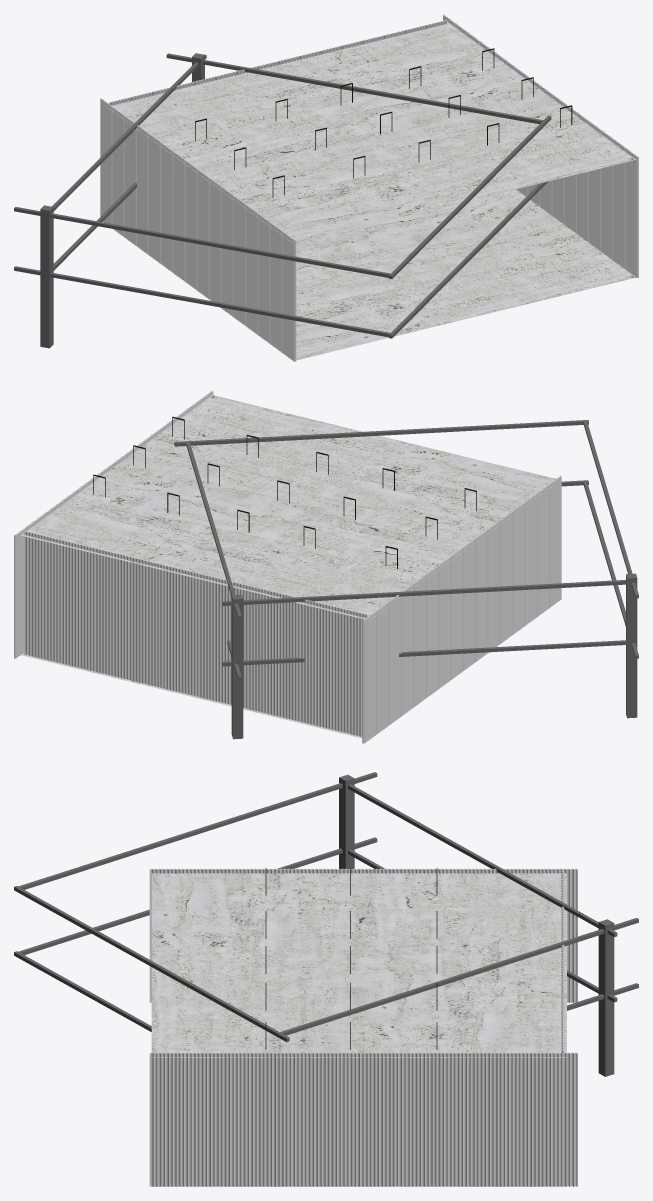
File: Warehouse internal.fbx
3 views of the same model, one above another, from view 1: azimuth 30°, elevation 25°; view 2: azimuth 150°, elevation 25°; view 3: azimuth 270°, elevation 25° (orthographic). The views are drawn at different scales.
Parts seen in each view (by area): view 1: Plane.005, Plane.004, Cube.023, Cube.039, Cube.027, Cube.029, Cube.031; view 2: Plane.005, Cube.029, Cube.023, Cube.039, Cube.027, Cube.031, Plane.004; view 3: Plane.005, Cube.027, Cube.039, Cube.023, Cube.031, Cube.029.
Boxes of the visible parts, x1,y1,x2,y2 form: Plane.005: [105, 21, 635, 242]; Plane.004: [113, 189, 635, 360]; Cube.023: [100, 98, 296, 361]; Cube.039: [14, 53, 551, 348]; Cube.027: [443, 14, 638, 277]; Cube.029: [109, 20, 446, 105]; Cube.031: [195, 48, 572, 197]; Plane.005: [20, 395, 560, 620]; Cube.029: [24, 531, 367, 736]; Cube.023: [362, 475, 561, 743]; Cube.039: [174, 420, 638, 739]; Cube.027: [14, 390, 213, 658]; Cube.031: [93, 416, 476, 568]; Plane.004: [21, 599, 560, 739]; Plane.005: [151, 873, 566, 1057]; Cube.027: [149, 1052, 577, 1186]; Cube.039: [14, 772, 638, 1076]; Cube.023: [149, 868, 577, 1002]; Cube.031: [265, 867, 437, 1049]; Cube.029: [561, 870, 564, 1052].
Bounding box in the file's own units: 37.68 × 10.2 × 35.48.
